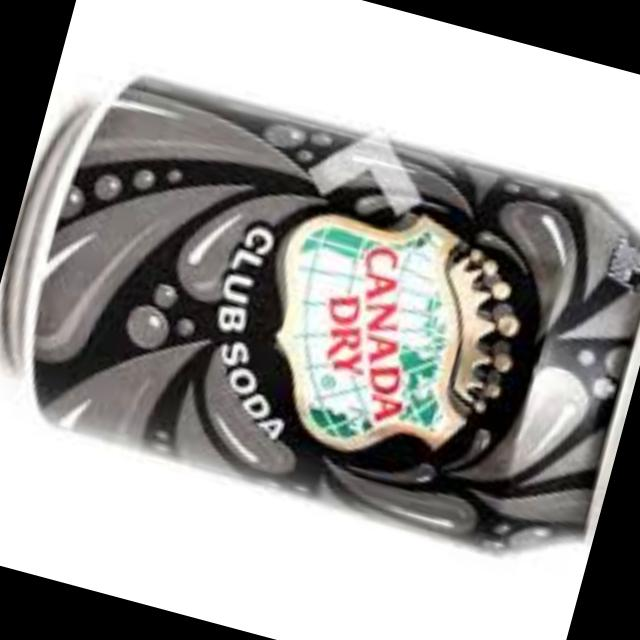metal: (13, 79, 640, 547)
